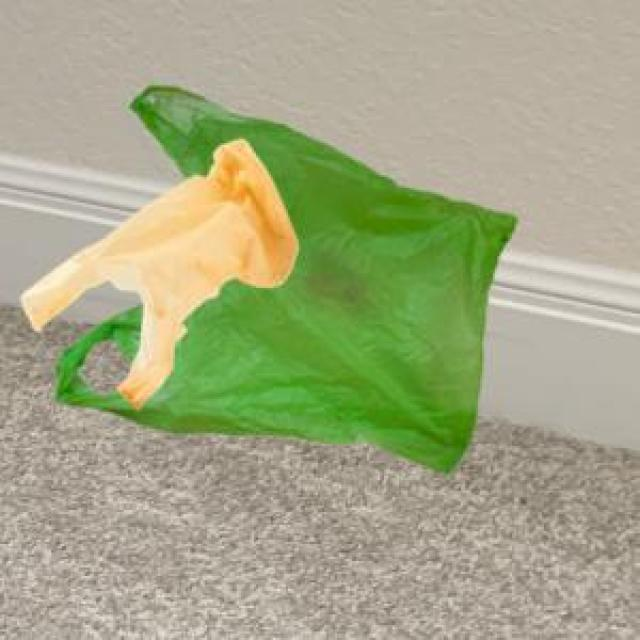waste: (22, 90, 515, 471)
